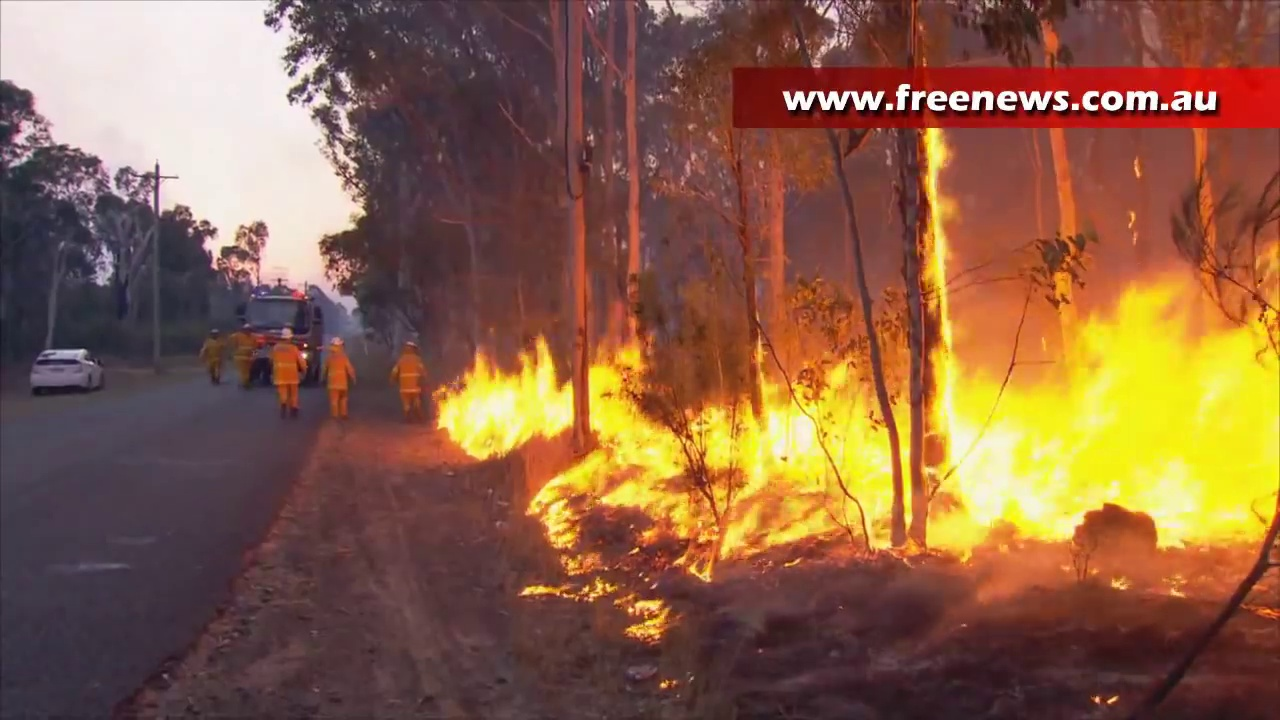fire: (441, 361, 915, 593), (923, 333, 1280, 559), (922, 135, 950, 290), (625, 600, 667, 637)
